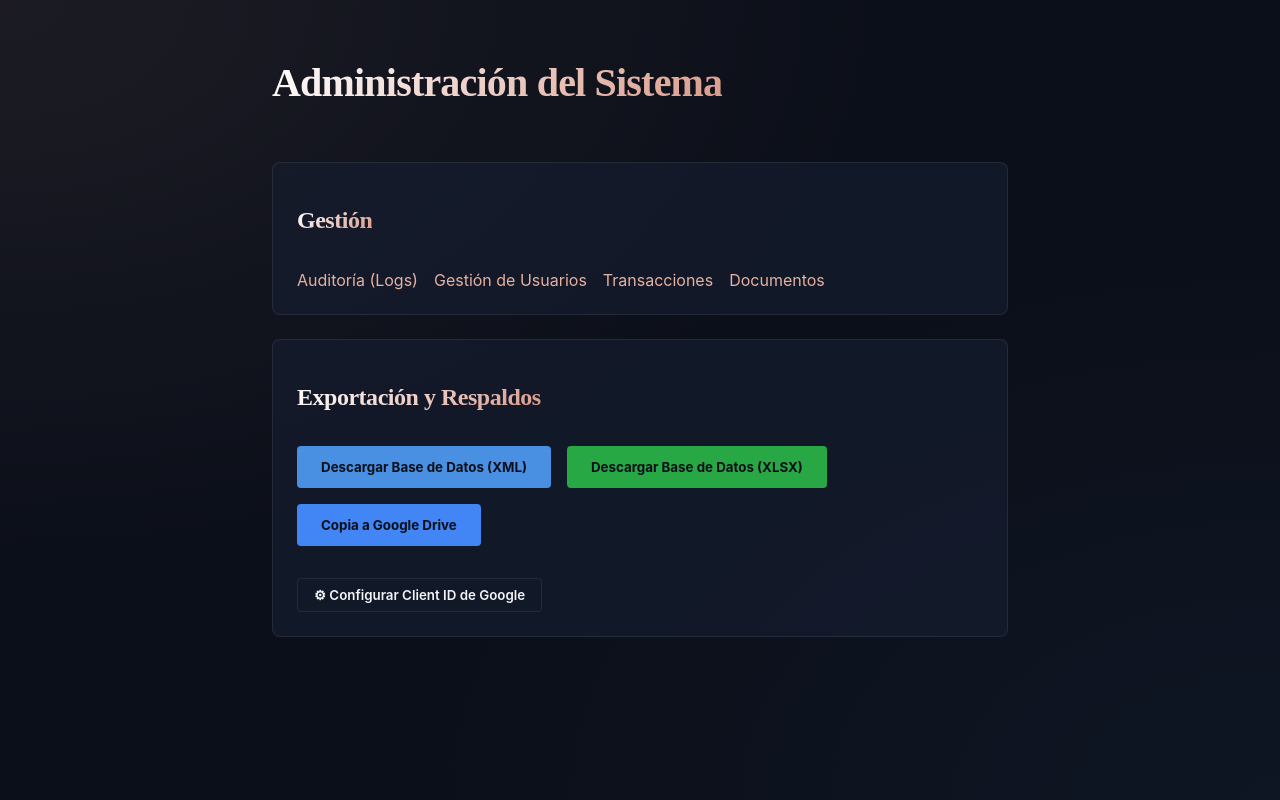
Test case: anuncios del estado del respaldo › un fallo se escribe en la región de alerta ya montada
Click the button "Descargar Base de Datos (XML)".
click(424, 467)  # box [297,446,551,488]
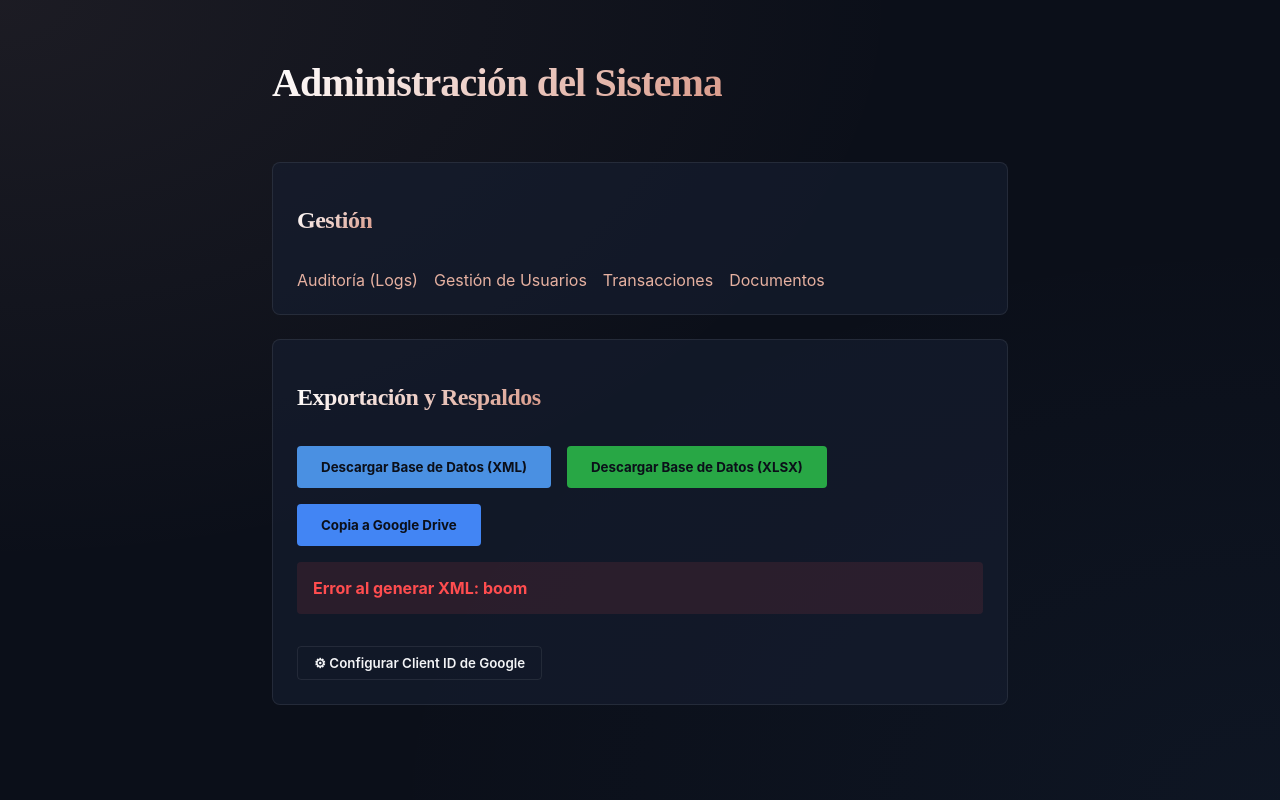
Now the message reads "Error al generar XML: boom", box [313,578,527,598]
